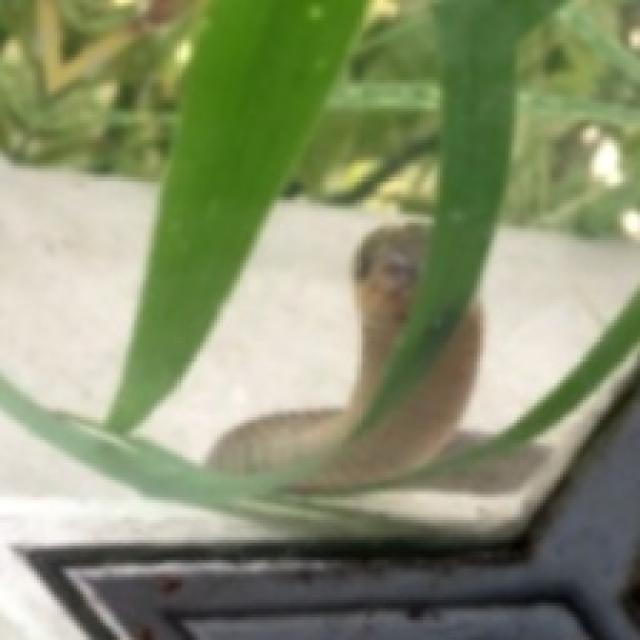philippine cobra: (209, 223, 429, 471), (323, 300, 483, 480), (320, 300, 480, 480), (346, 223, 426, 411), (209, 409, 340, 471)
